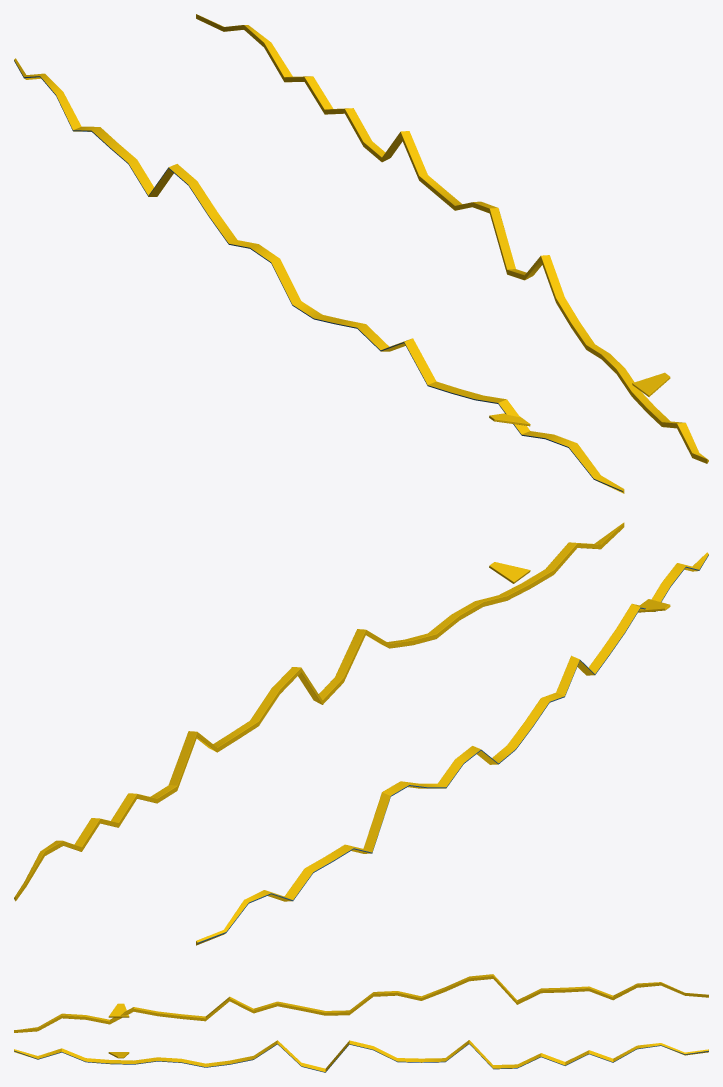
File: strix_armor_ep.fbx
The picture shows the model from 3 angles, top to bottom: view 1: azimuth 30°, elevation 25°; view 2: azimuth 150°, elevation 25°; view 3: azimuth 270°, elevation 25°; orthographic projection. The views are drawn at different scales.
Visible parts, largest first — view 1: Armor_Chines; view 2: Armor_Chines; view 3: Armor_Chines.
Boxes of the visible parts, left/top/right/bottom form: Armor_Chines: left=14, top=14, right=708, bottom=493; Armor_Chines: left=14, top=522, right=708, bottom=945; Armor_Chines: left=14, top=974, right=708, bottom=1072.
Bounding box in the file's own units: 125 × 33.05 × 537.
